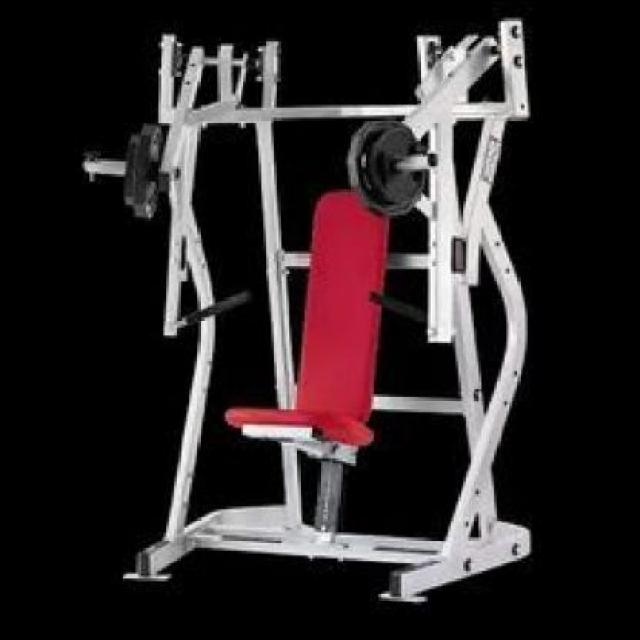shoulder press machine: (81, 20, 532, 612)
